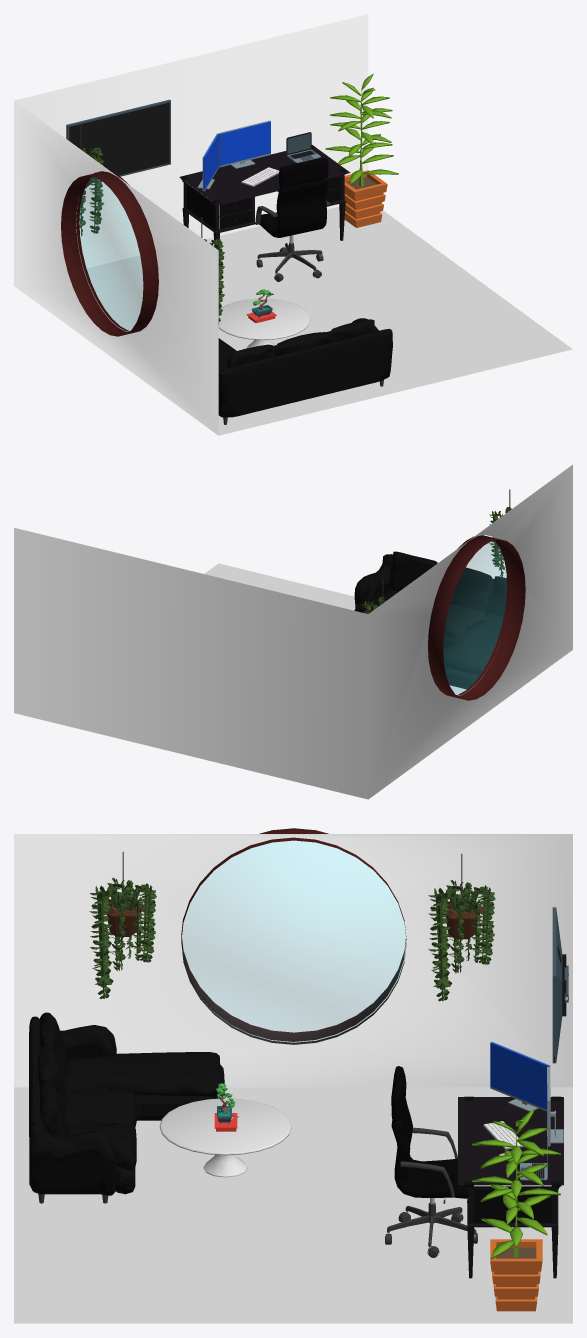
Rendered from room.glb.
3 views of the same model, one above another, from view 1: azimuth 30°, elevation 25°; view 2: azimuth 150°, elevation 25°; view 3: azimuth 270°, elevation 25° (orthographic). The views are drawn at different scales.
Visible parts, largest first — view 1: Plane, Sofa, Table, Chair, TvScreen, Plant, Table_large_circular, ScreenMonitor2, FlowerPot1, MacBook, FlatTv, Bonsai; view 2: Plane, Sofa, FlowerPot2; view 3: Plane, Sofa, Table, Plant, Table_large_circular, Chair, FlowerPot1, FlowerPot2, MonitorScreen, FlatTv, Bonsai.
Part boxes in pixels (x1,y1,x2,y2): Plane: (14, 14, 572, 435); Sofa: (218, 318, 392, 424); Table: (179, 145, 350, 249); Chair: (255, 158, 330, 281); TvScreen: (69, 102, 169, 181); Plant: (325, 74, 398, 227); Table_large_circular: (218, 298, 310, 348); ScreenMonitor2: (220, 121, 270, 165); FlowerPot1: (75, 125, 104, 236); MacBook: (286, 132, 320, 162); FlatTv: (66, 99, 170, 183); Bonsai: (246, 289, 276, 323); Plane: (14, 464, 572, 799); Sofa: (354, 551, 507, 689); FlowerPot2: (489, 489, 511, 577); Plane: (14, 828, 572, 1323); Sofa: (29, 1012, 224, 1203); Table: (458, 1096, 563, 1278); Plant: (472, 1109, 560, 1311); Table_large_circular: (159, 1098, 291, 1177); Chair: (385, 1066, 477, 1257); FlowerPot1: (428, 853, 495, 1001); FlowerPot2: (89, 851, 156, 998); MonitorScreen: (490, 1043, 547, 1109); FlatTv: (552, 907, 568, 1063); Bonsai: (214, 1083, 238, 1131).
Bounding box in the file's own units: 8.42 × 4 × 8.
